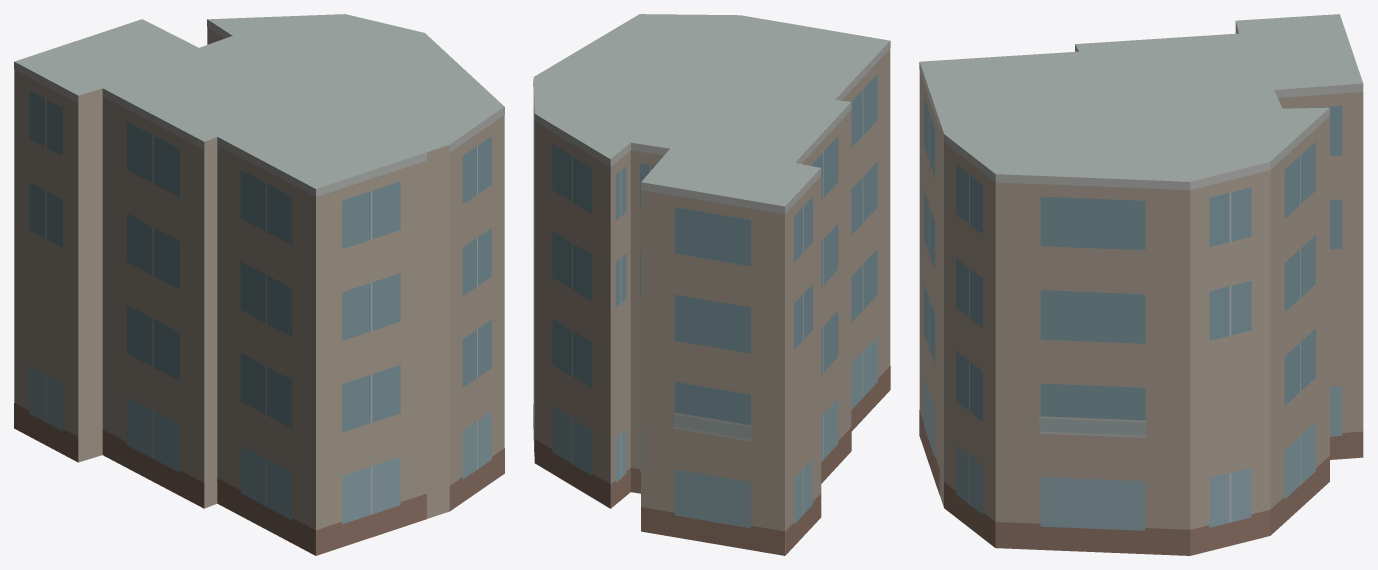
File: survey-upis-32510338.glb
3 renders of one model, left to right at view 1: azimuth 30°, elevation 25°; view 2: azimuth 150°, elevation 25°; view 3: azimuth 270°, elevation 25°, orthographic. The views are drawn at different scales.
Parts seen in each view (by area): view 1: survey-upis-32510338.tmp; view 2: survey-upis-32510338.tmp; view 3: survey-upis-32510338.tmp.
Part boxes in pixels (x1=…): survey-upis-32510338.tmp: x1=14, y1=14, x2=504, y2=555; survey-upis-32510338.tmp: x1=533, y1=14, x2=890, y2=555; survey-upis-32510338.tmp: x1=919, y1=14, x2=1363, y2=555.
Bounding box in the file's own units: 10.6 × 11 × 11.84.
